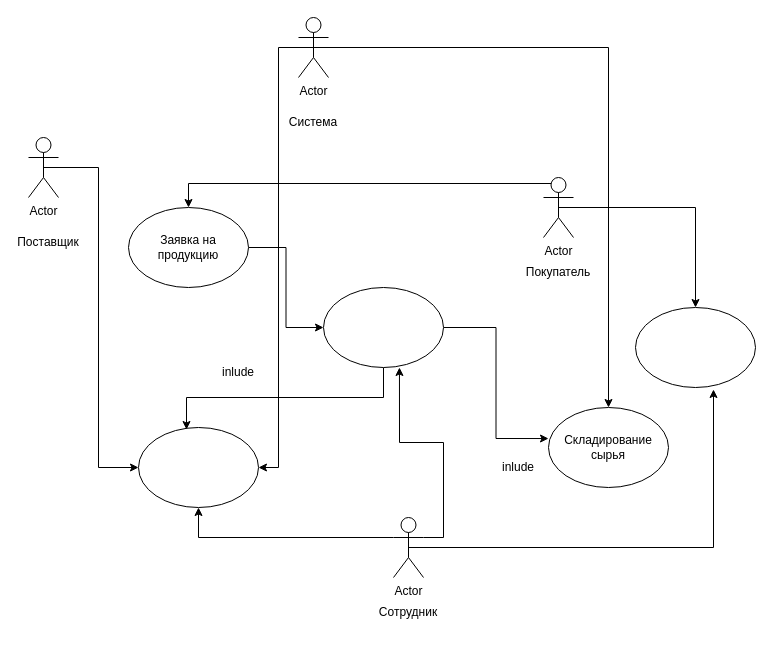
Some shapes in this 773 by 645 pixel diagram are drawn without their labels. Each missing label, with the centre of its shape:
Дозакупка сырья: (198,467)
Изготовление продукции: (383,327)
Продажа продукции: (695,347)
